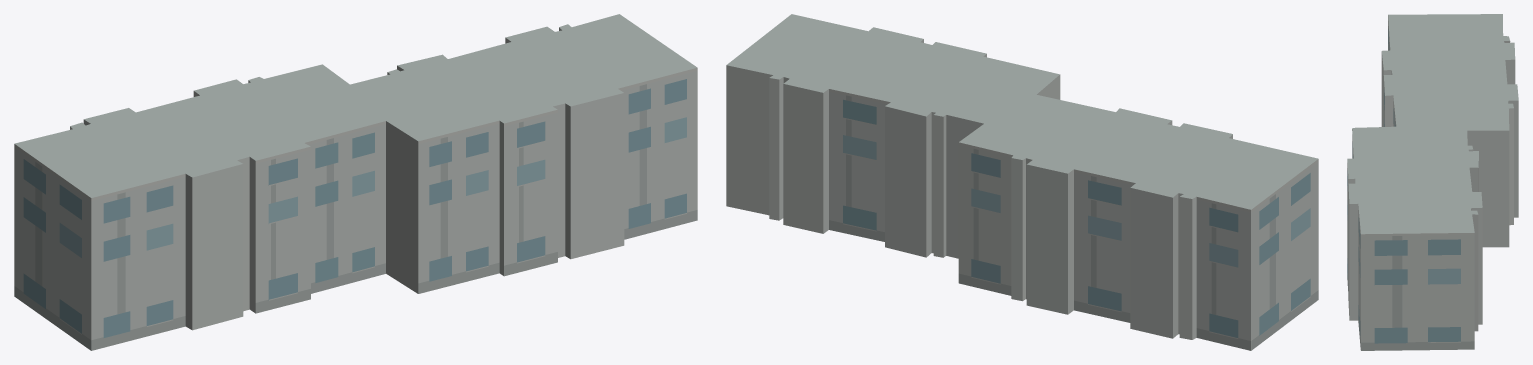
File: survey-upis-32558189.glb
The picture shows the model from 3 angles, left to right: view 1: azimuth 30°, elevation 25°; view 2: azimuth 150°, elevation 25°; view 3: azimuth 270°, elevation 25°; orthographic projection. The views are drawn at different scales.
Visible parts, largest first — view 1: survey-upis-32558189.tmp; view 2: survey-upis-32558189.tmp; view 3: survey-upis-32558189.tmp.
Part boxes in pixels (x1,y1,x2,y2): survey-upis-32558189.tmp: [14, 14, 697, 350]; survey-upis-32558189.tmp: [726, 14, 1318, 350]; survey-upis-32558189.tmp: [1347, 14, 1518, 350].
Bounding box in the file's own units: 49.35 × 12.2 × 16.25.
